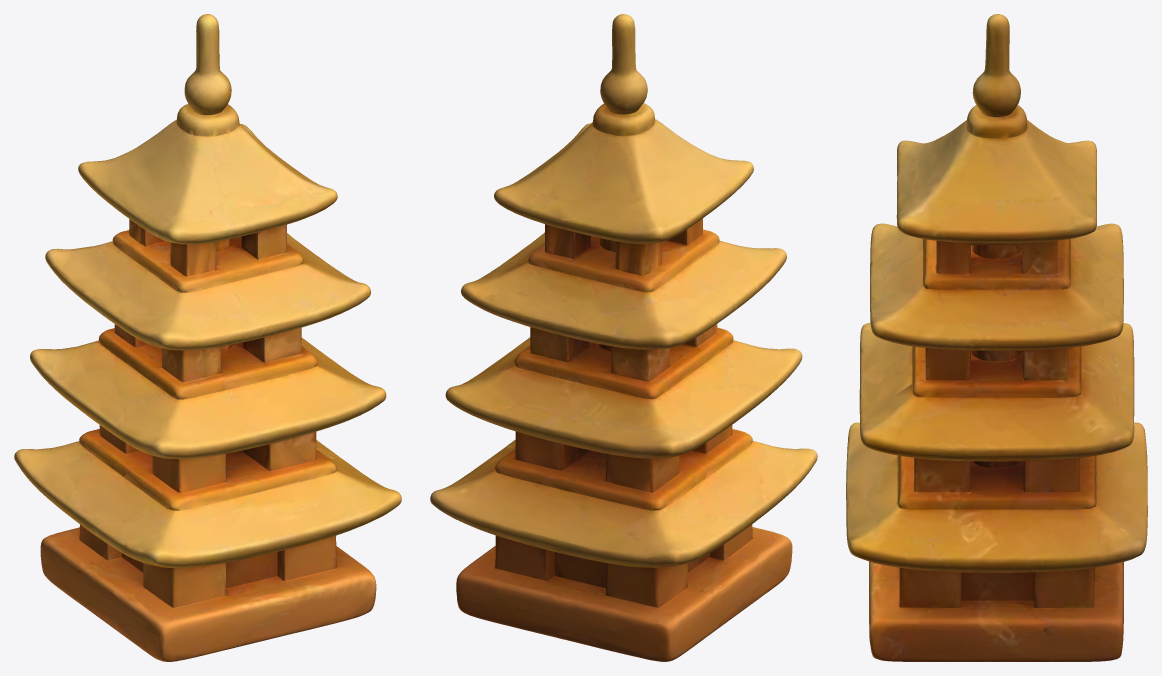
Rendered from pagoda_pbr.glb.
3 views of the same model, side by side, from view 1: azimuth 30°, elevation 25°; view 2: azimuth 150°, elevation 25°; view 3: azimuth 270°, elevation 25° (orthographic). The views are drawn at different scales.
Visible parts, largest first — view 1: model.010; view 2: model.010; view 3: model.010.
Part boxes in pixels (left/top/right/bottom): model.010: left=14, top=14, right=401, bottom=661; model.010: left=430, top=14, right=817, bottom=661; model.010: left=846, top=14, right=1147, bottom=661.
Bounding box in the file's own units: 0.8675 × 1.89 × 0.8675.
1 material, 1 textured.
